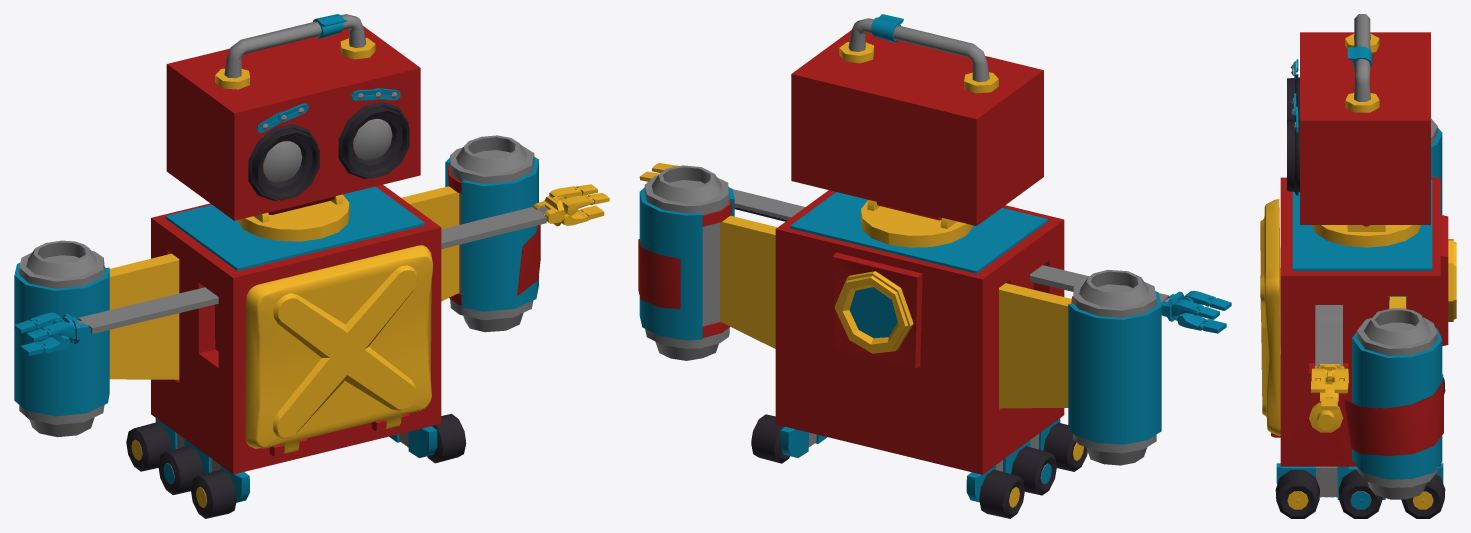
The model's file is SM_Glitch.fbx.
The picture shows the model from 3 angles, left to right: view 1: azimuth 30°, elevation 25°; view 2: azimuth 150°, elevation 25°; view 3: azimuth 270°, elevation 25°; orthographic projection. The views are drawn at different scales.
Visible parts, largest first — view 1: Body, Wheel_Front_R, Wheel_Back_R, Wheel_Front_L; view 2: Body, Wheel_Back_R, Wheel_Front_R, Wheel_Back_L; view 3: Body, Wheel_Front_L, Wheel_Back_L.
Boxes of the visible parts, x1,y1,x2,y2 form: Body: (14, 14, 609, 502); Wheel_Front_R: (191, 469, 236, 518); Wheel_Back_R: (126, 422, 171, 471); Wheel_Front_L: (427, 414, 466, 463); Body: (638, 14, 1231, 502); Wheel_Back_R: (979, 469, 1024, 518); Wheel_Front_R: (1043, 422, 1087, 471); Wheel_Back_L: (751, 414, 789, 463); Body: (1260, 14, 1456, 518); Wheel_Front_L: (1275, 470, 1319, 518); Wheel_Back_L: (1401, 474, 1445, 518).
Size of the model in its own units: 0.6538 by 0.473 by 0.1987.
